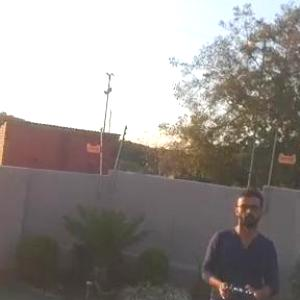follow: (193, 180, 281, 299)
